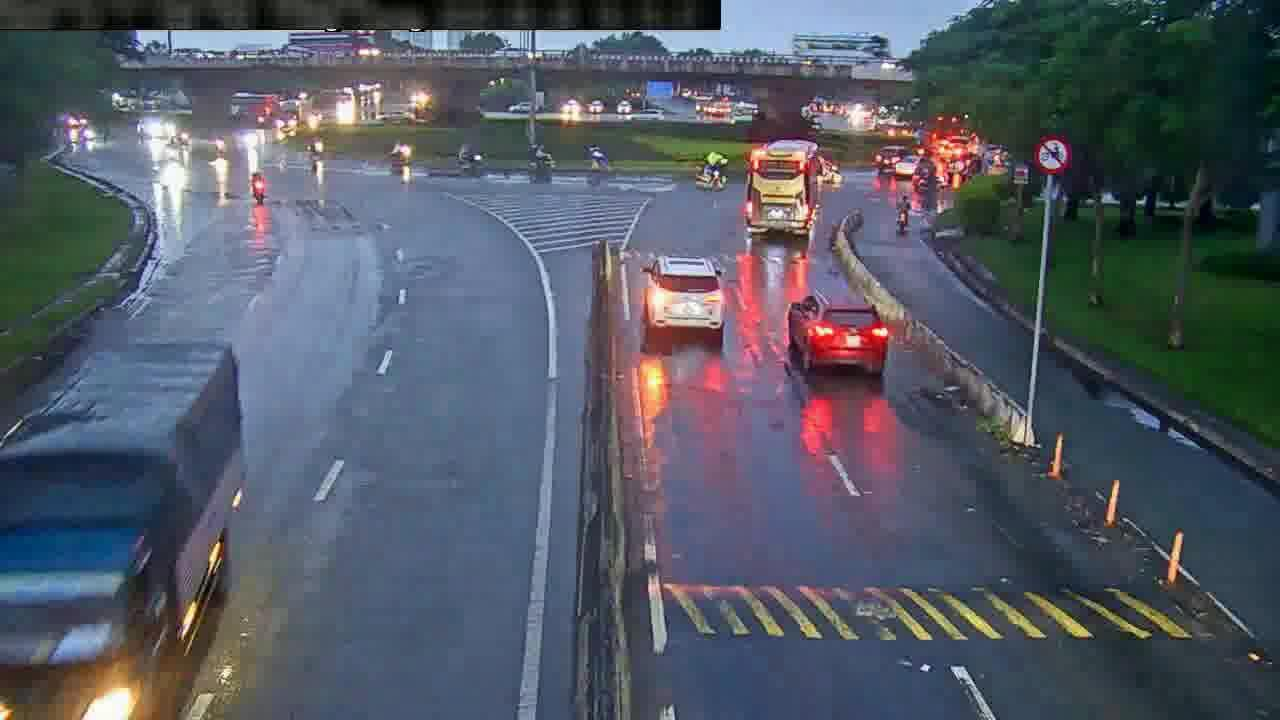14: (747, 136, 819, 249)
8: (0, 351, 242, 719)
container: (787, 289, 891, 379), (641, 254, 726, 347)
motorbike: (525, 140, 556, 175), (449, 144, 481, 175), (384, 138, 414, 170), (247, 169, 269, 205), (897, 192, 913, 234)
